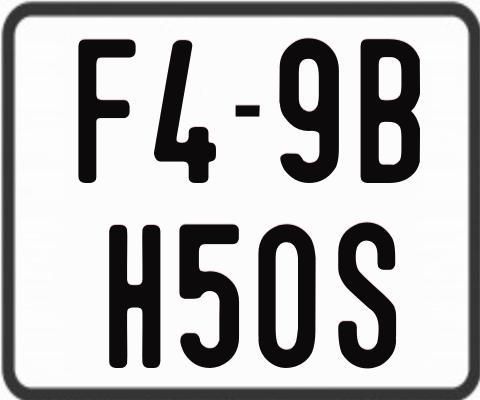0: (257, 221, 318, 371)
4: (152, 40, 218, 184)
5: (177, 224, 242, 372)
9: (278, 37, 343, 182)
B: (360, 37, 423, 182)
F: (76, 39, 137, 187)
H: (108, 225, 163, 368)
S: (338, 221, 401, 372)
